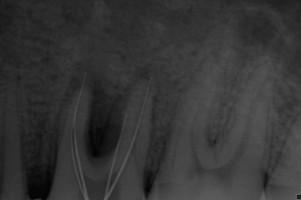Dental Caries: (57, 53, 182, 163)
